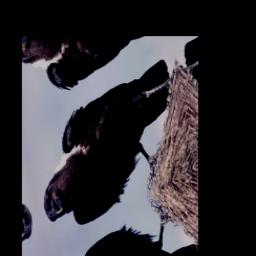Crow: (29, 48, 192, 250)
